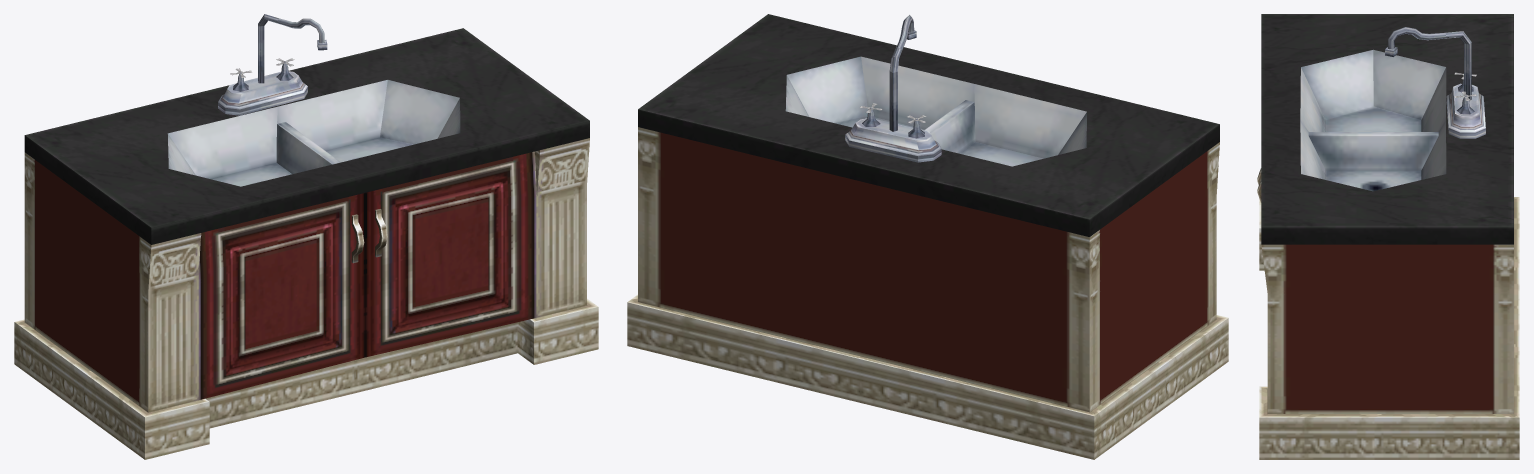
The model's file is furni_0201121_02.FBX.
3 renders of one model, left to right at view 1: azimuth 30°, elevation 25°; view 2: azimuth 150°, elevation 25°; view 3: azimuth 270°, elevation 25°, orthographic. The views are drawn at different scales.
Parts seen in each view (by area): view 1: furni_0201121_02; view 2: furni_0201121_02; view 3: furni_0201121_02.
Boxes of the visible parts, x1,y1,x2,y2 form: furni_0201121_02: [14, 14, 598, 459]; furni_0201121_02: [627, 14, 1228, 459]; furni_0201121_02: [1257, 14, 1519, 459].
Bounding box in the file's own units: 165 × 115 × 83.15.
1 material, 1 textured.
